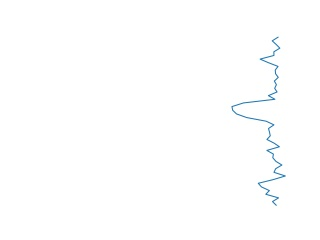interdistributaryEstuary: (227, 36, 289, 205)
